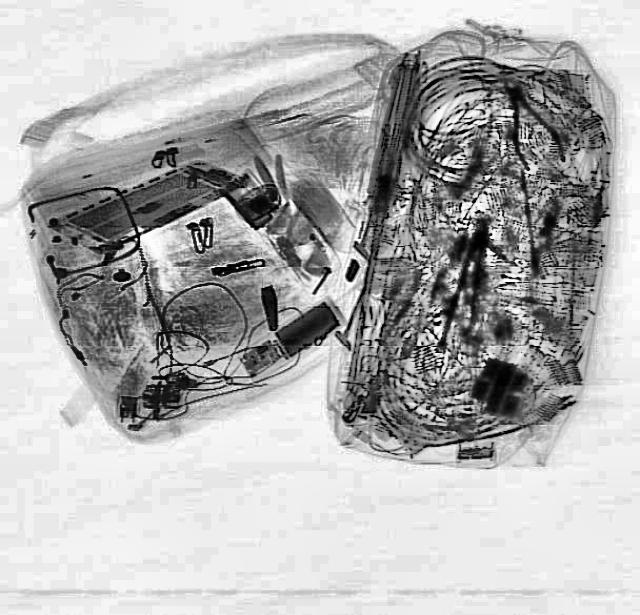Pliers: (436, 215, 500, 351), (488, 72, 568, 172)
